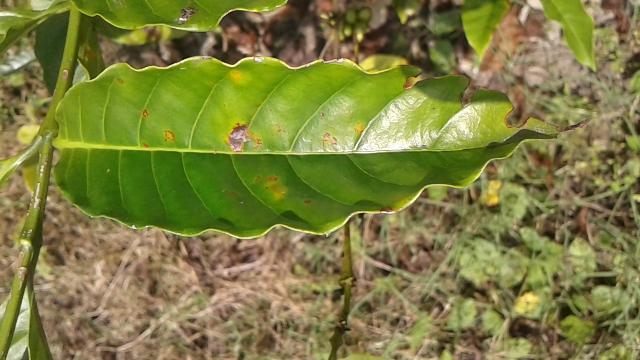rust_level_2: (52, 56, 592, 242)
